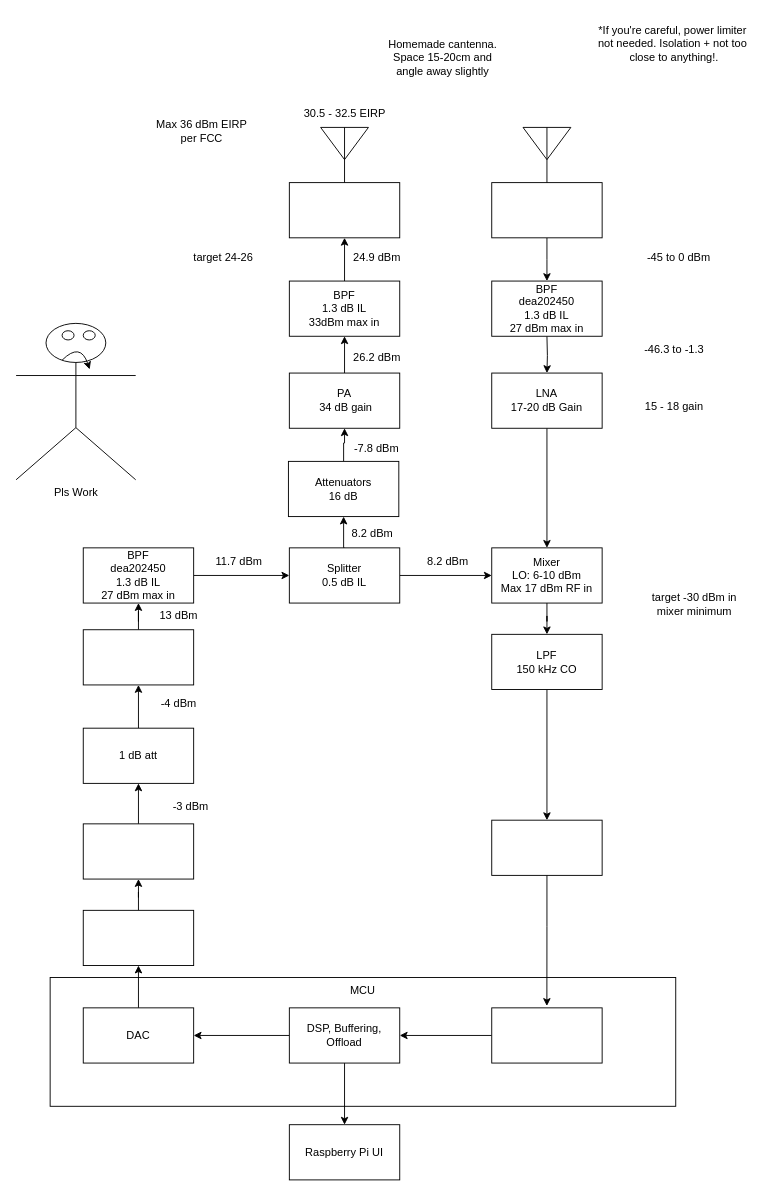
The diagram is 777 pixels wide and 1196 high, and some of its shapes have lost their labels. The shapes that lost their labels are listed below. From the top down, each one's centre as x and y in pixels, then its label:
At pixel 344 210: "TX Antenna".
At pixel 546 210: "RX Antenna".
At pixel 138 657: "Gain Stage 17dB".
At pixel 138 851: "VCO -3 dBm out".
At pixel 546 847: "Amp/Offset Tunable".
At pixel 138 937: "Buffer Amp".
At pixel 546 1035: "ADC".
